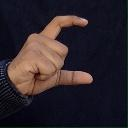hand: (6, 14, 93, 96)
